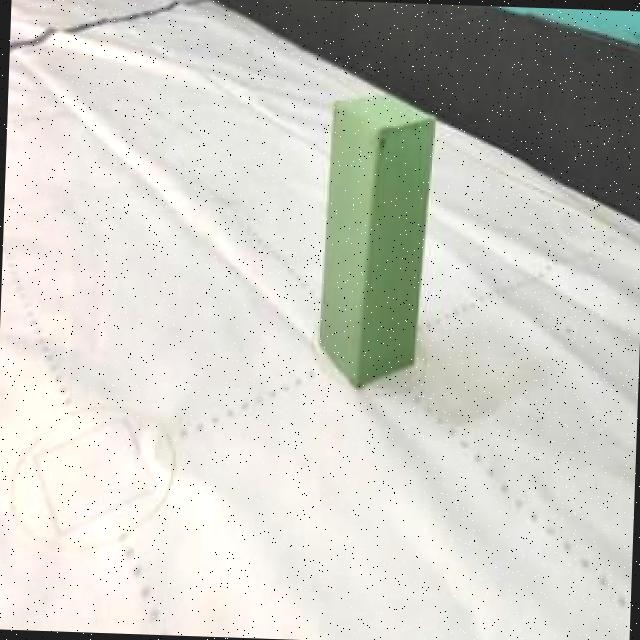greenbox: (312, 87, 438, 396)
